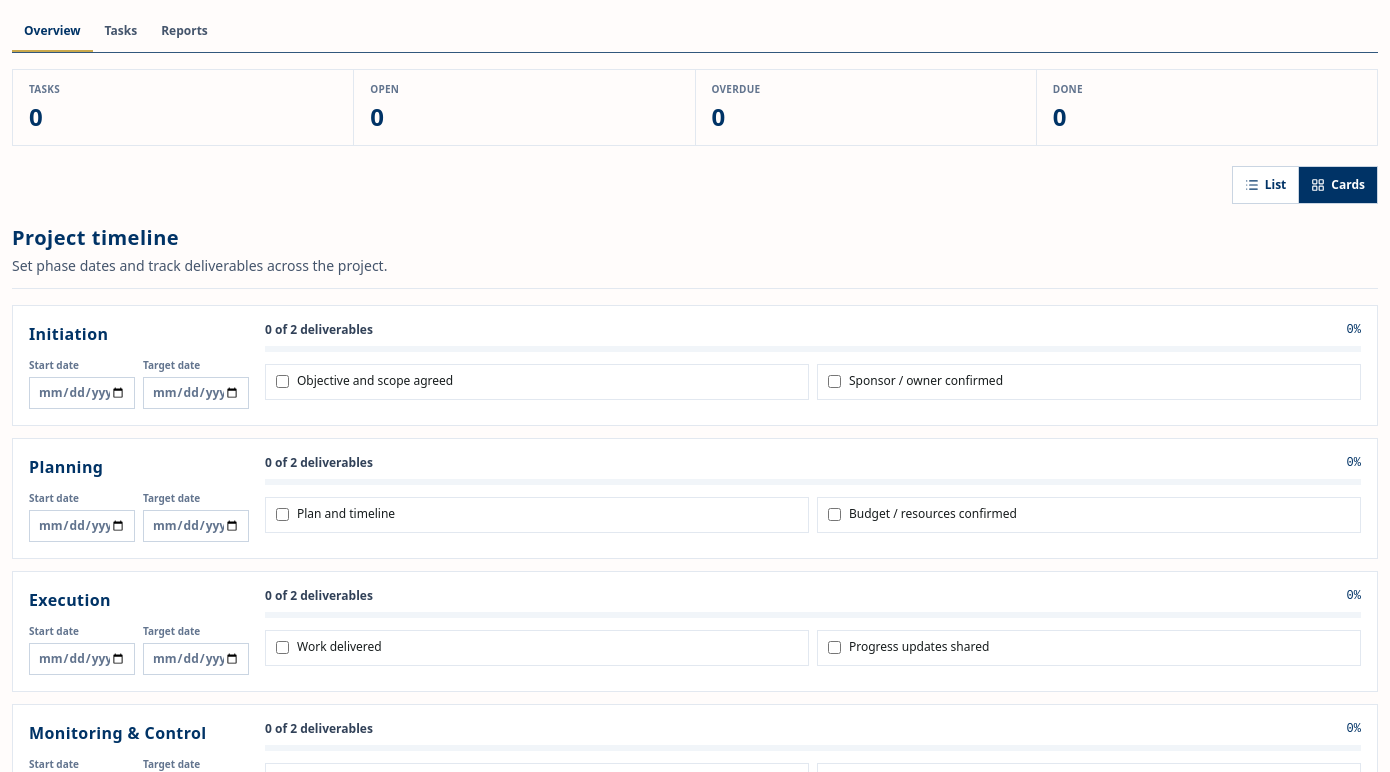
Test: IT project sections by project type › adds a General task with owner, due date and status fields
The width and height of the screenshot is (1390, 772).
What coordinates should you click on to do the following:
click the tab "Tasks"
I would click on:
 (121, 32)
Its box is x1=92 y1=12 x2=149 y2=52.
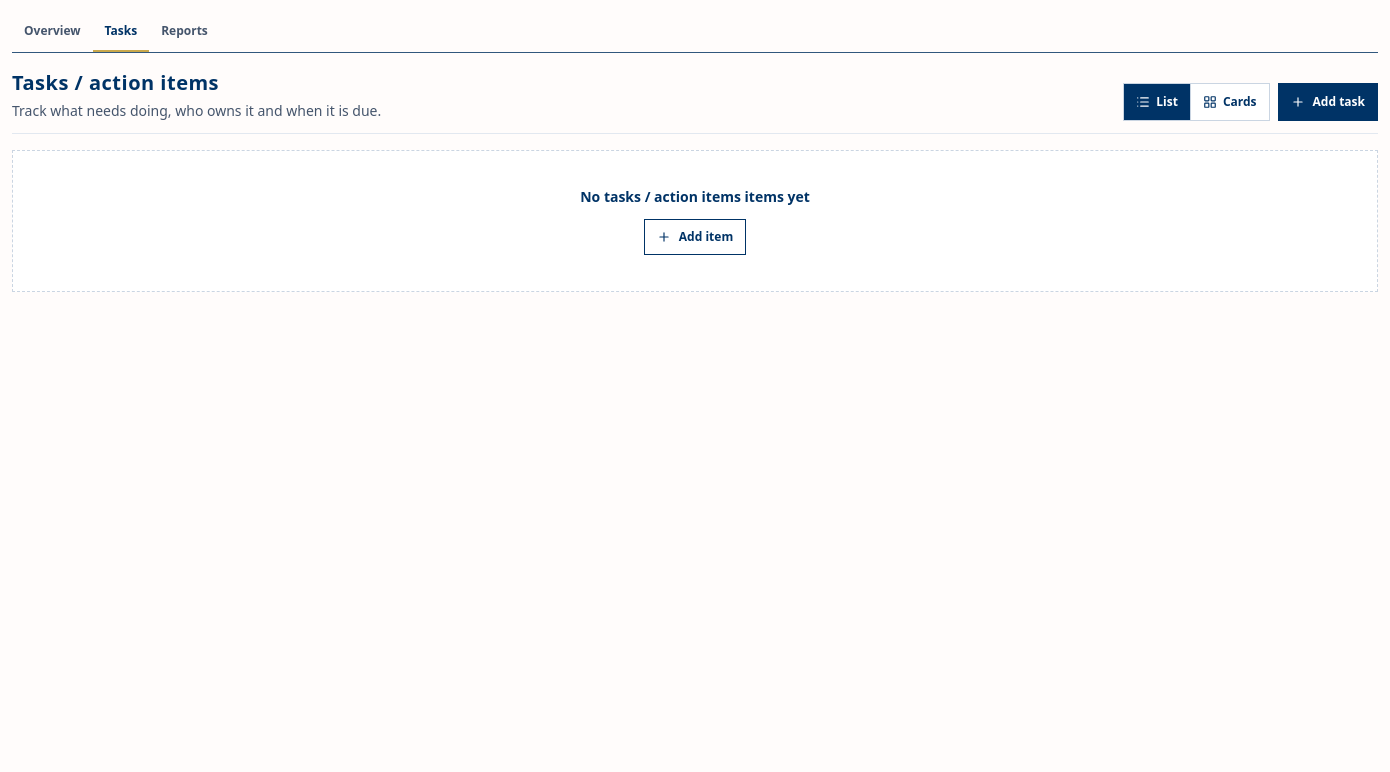
What coordinates should you click on to do the following:
click the button "Add item"
I would click on:
 (695, 237)
Its box is x1=644 y1=219 x2=746 y2=255.
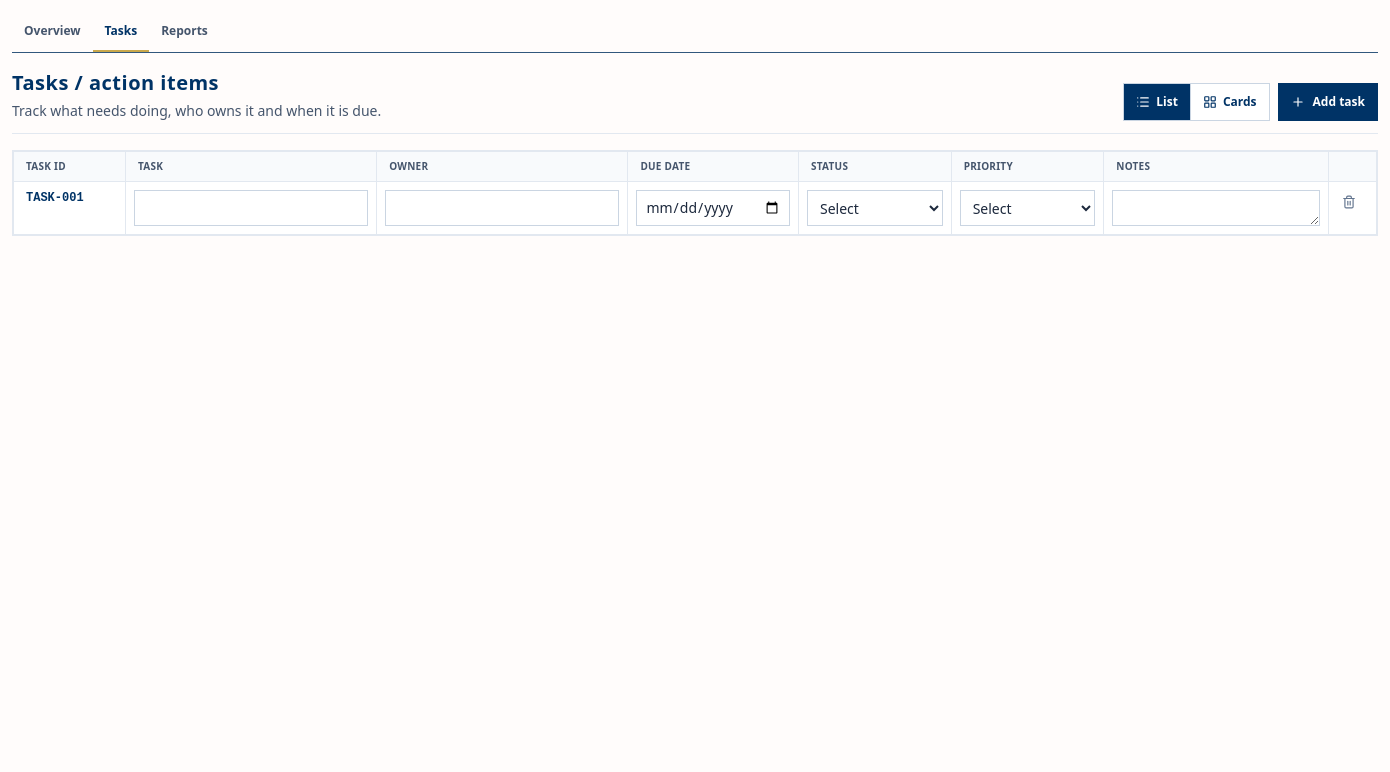
Expected: the field named "TASK-001 Task" is shown, x1=134 y1=190 x2=368 y2=226
Expected: the field named "TASK-001 Owner" is shown, x1=385 y1=190 x2=619 y2=226
Expected: the dropdown named "TASK-001 Status" is shown, x1=807 y1=190 x2=943 y2=226
